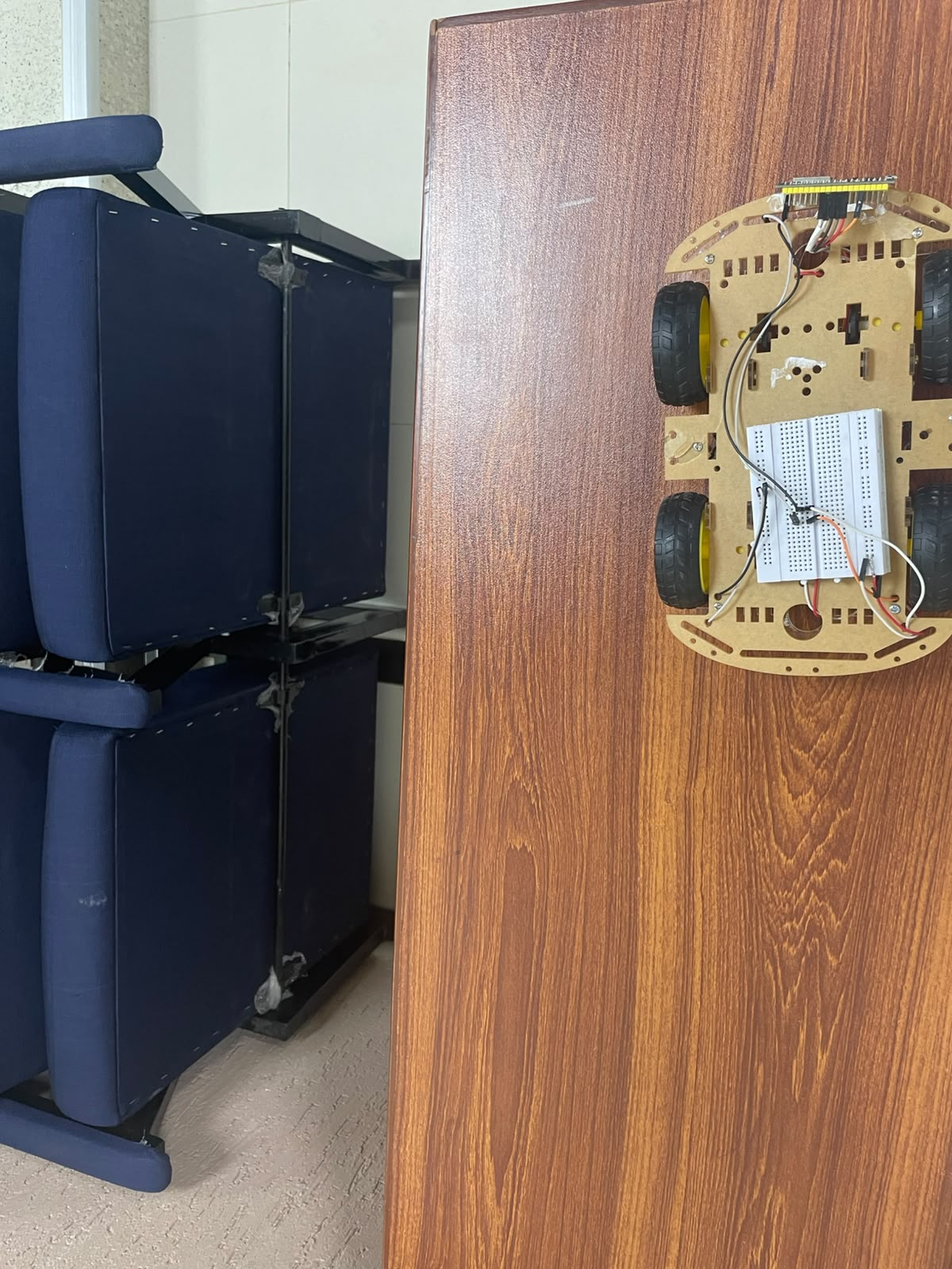Rover-detection: (651, 169, 951, 677)
